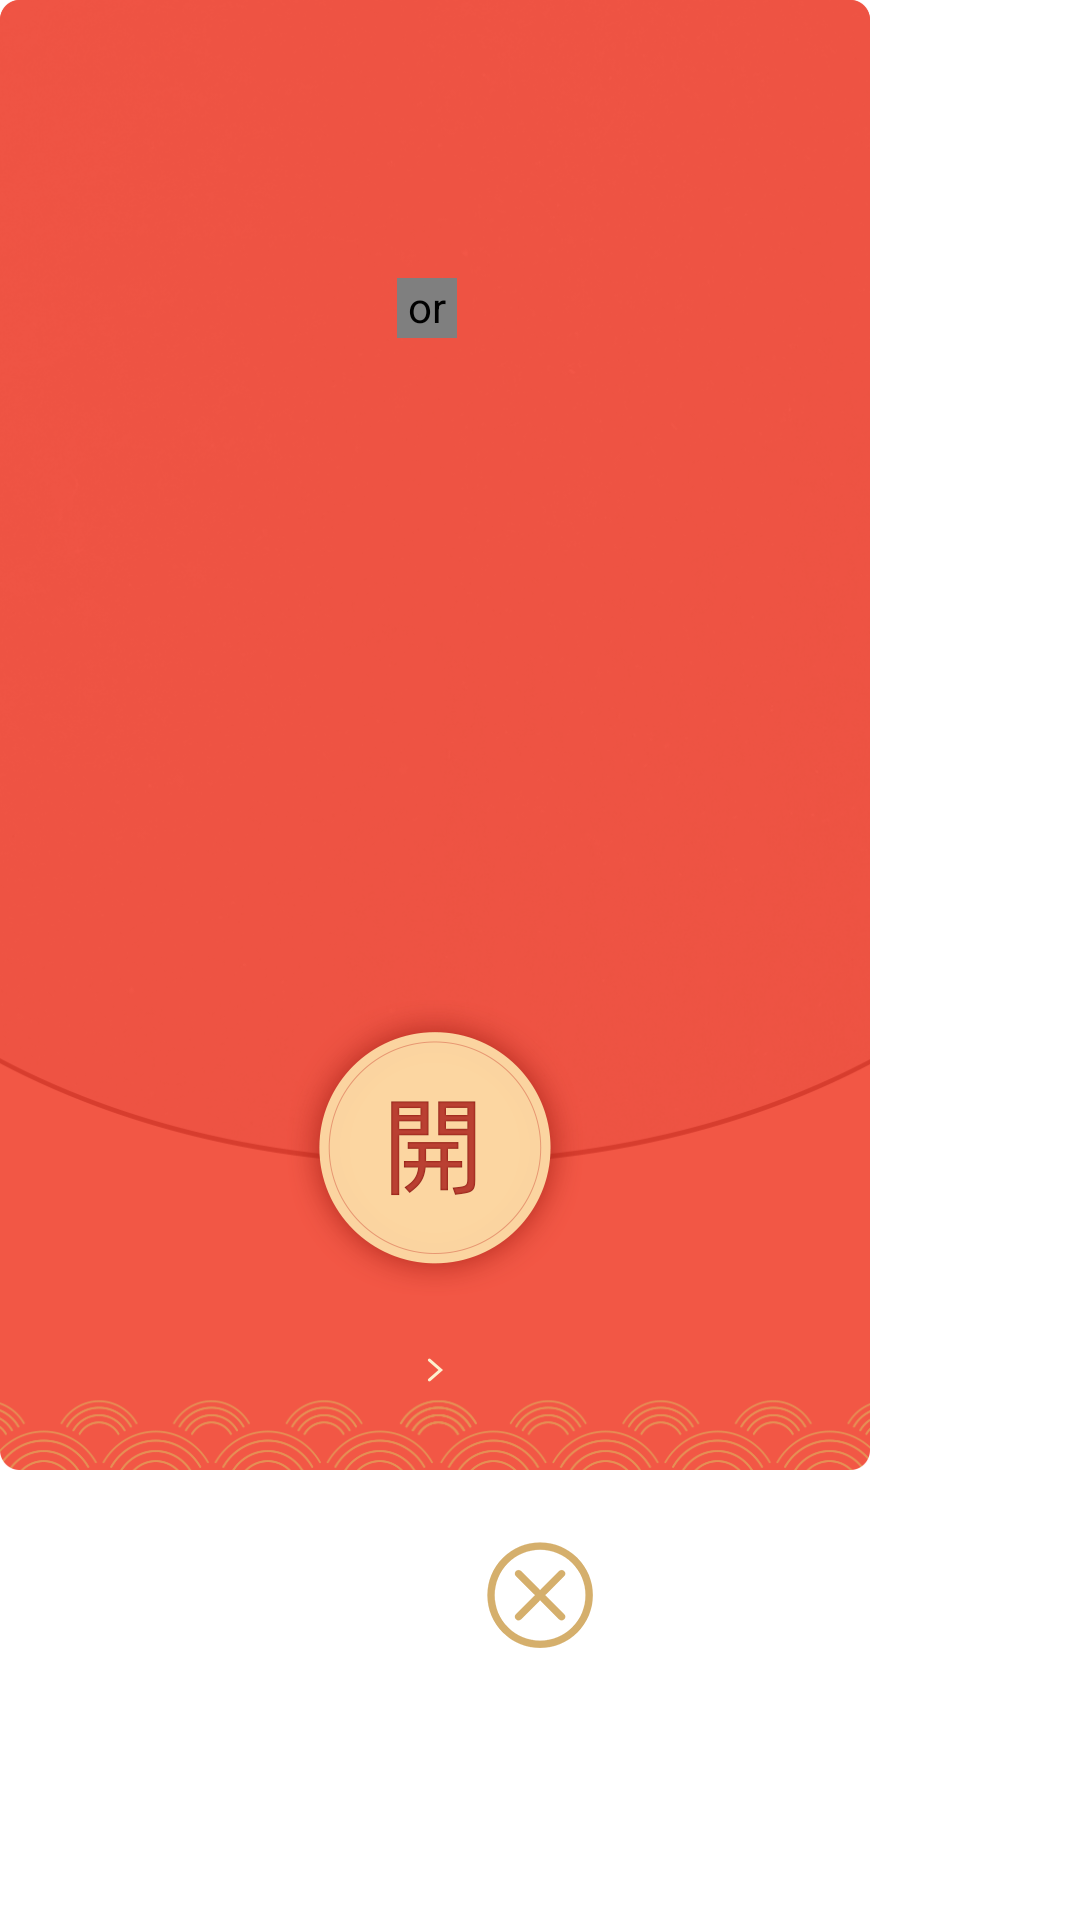

Icon bounding boxes for this 1080 x 1920 phone screenshot, format (left=x1, top=y1, right=x2, bottom=y2):
packet close: (left=487, top=1542, right=593, bottom=1648)
